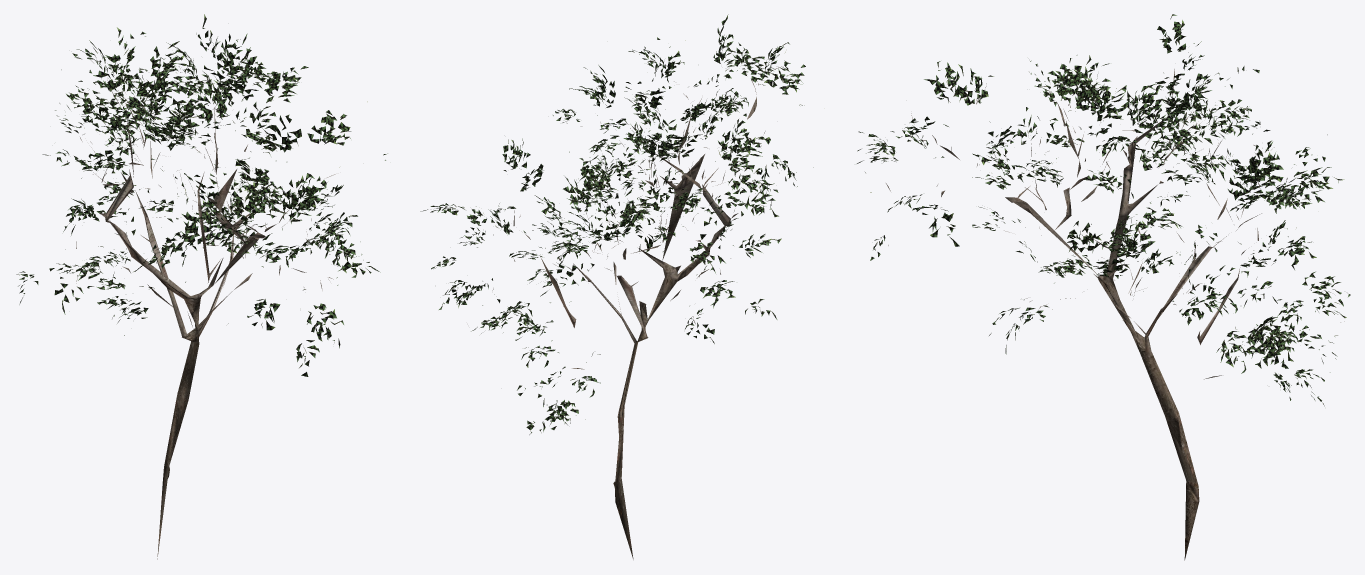
Rendered from tree_small_02-near.glb.
3 views of the same model, side by side, from view 1: azimuth 30°, elevation 25°; view 2: azimuth 150°, elevation 25°; view 3: azimuth 270°, elevation 25° (orthographic). The views are drawn at different scales.
Visible parts, largest first — view 1: tree_small_02_LOD0; view 2: tree_small_02_LOD0; view 3: tree_small_02_LOD0.
Boxes of the visible parts, bbox=[...] form: tree_small_02_LOD0: bbox=[16, 14, 387, 559]; tree_small_02_LOD0: bbox=[420, 14, 813, 559]; tree_small_02_LOD0: bbox=[857, 14, 1350, 560].
Bounding box in the file's own units: 2.87 × 4.54 × 4.01.
Materials: 3 (3 with a texture image).
